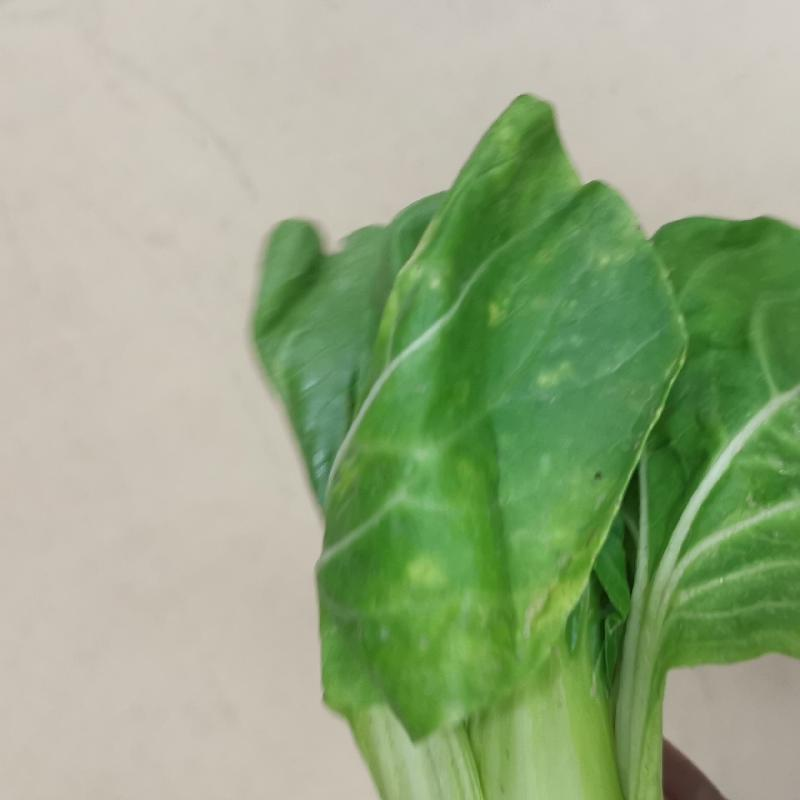green vegatable: (227, 91, 800, 800)
